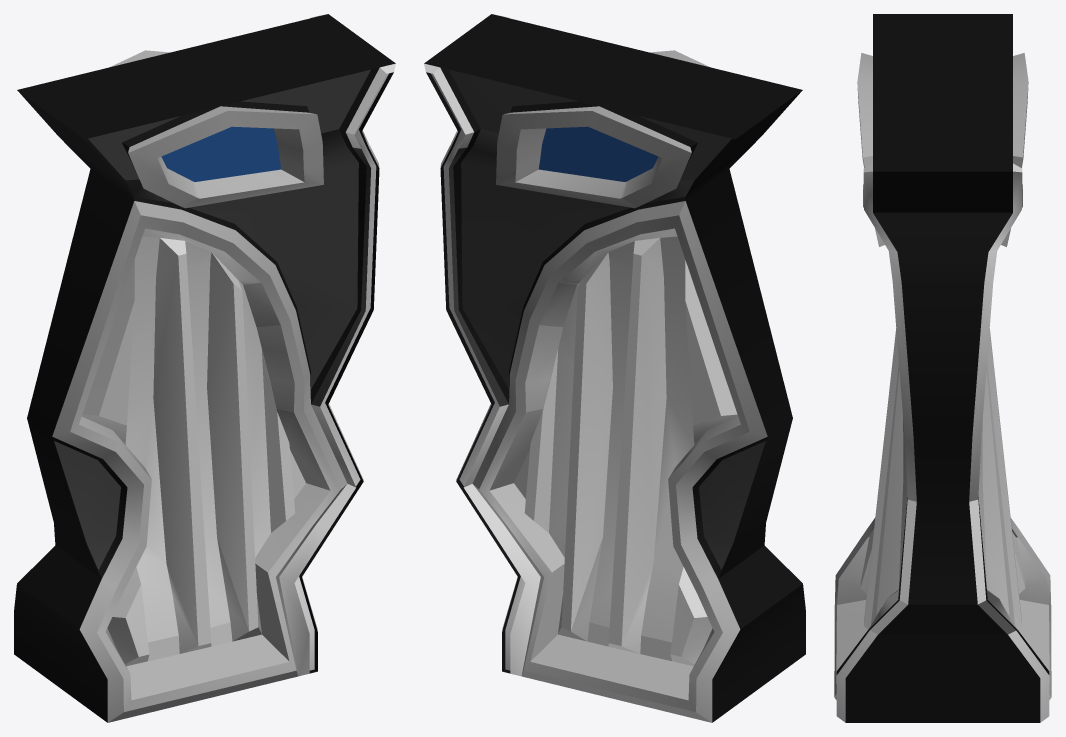
Rendered from AirlockDoor_Left.FBX.
3 views of the same model, side by side, from view 1: azimuth 30°, elevation 25°; view 2: azimuth 150°, elevation 25°; view 3: azimuth 270°, elevation 25° (orthographic). The views are drawn at different scales.
Visible parts, largest first — view 1: Door_Left; view 2: Door_Left; view 3: Door_Left.
Part boxes in pixels (x1=…): Door_Left: x1=14, y1=14, x2=395, y2=722; Door_Left: x1=424, y1=14, x2=805, y2=722; Door_Left: x1=834, y1=14, x2=1051, y2=722.
Bounding box in the file's own units: 171 × 292 × 95.96.
